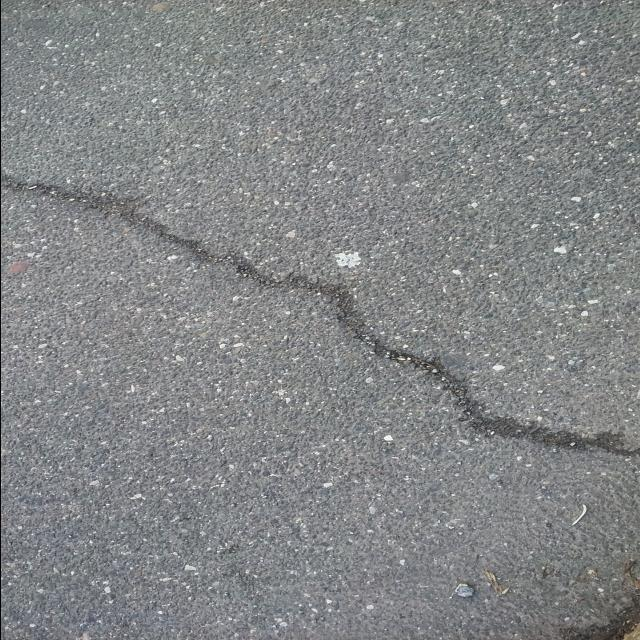Crack: (266, 275, 640, 455), (0, 175, 264, 282)
